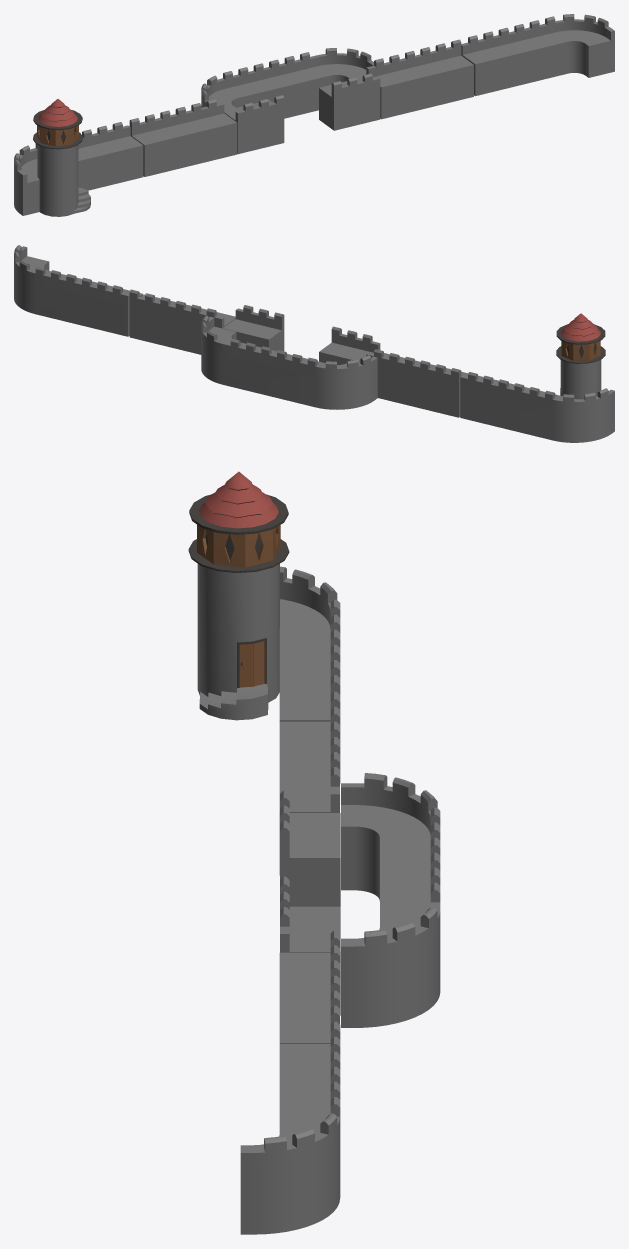
File: WALL_B.glb
3 renders of one model, top to bottom at view 1: azimuth 30°, elevation 25°; view 2: azimuth 150°, elevation 25°; view 3: azimuth 270°, elevation 25°, orthographic. The views are drawn at different scales.
Visible parts, largest first — view 1: Wall_back; view 2: Wall_back; view 3: Wall_back.
Part boxes in pixels (<box>): Wall_back: <box>14,14,614,216</box>; Wall_back: <box>14,245,614,442</box>; Wall_back: <box>188,471,440,1234</box>.
Size of the model in its own units: 54 by 9.58 by 9.95.
